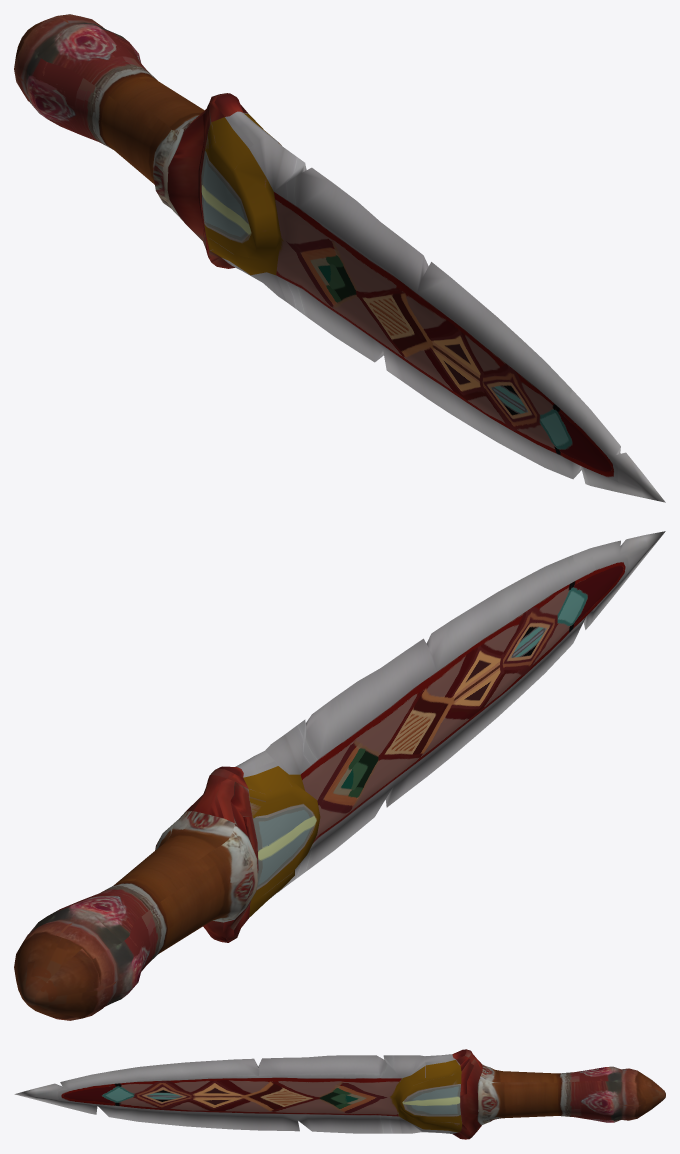
The model's file is ZuluDagger.fbx.
The picture shows the model from 3 angles, top to bottom: view 1: azimuth 30°, elevation 25°; view 2: azimuth 150°, elevation 25°; view 3: azimuth 270°, elevation 25°; orthographic projection. The views are drawn at different scales.
Visible parts, largest first — view 1: MiniZuluDagger1; view 2: MiniZuluDagger1; view 3: MiniZuluDagger1.
Part boxes in pixels (bbox=[...]): MiniZuluDagger1: bbox=[14, 14, 665, 502]; MiniZuluDagger1: bbox=[14, 531, 665, 1020]; MiniZuluDagger1: bbox=[14, 1049, 665, 1139].
Bounding box in the file's own units: 0.5649 × 0.8739 × 5.88.
1 material, 1 textured.
